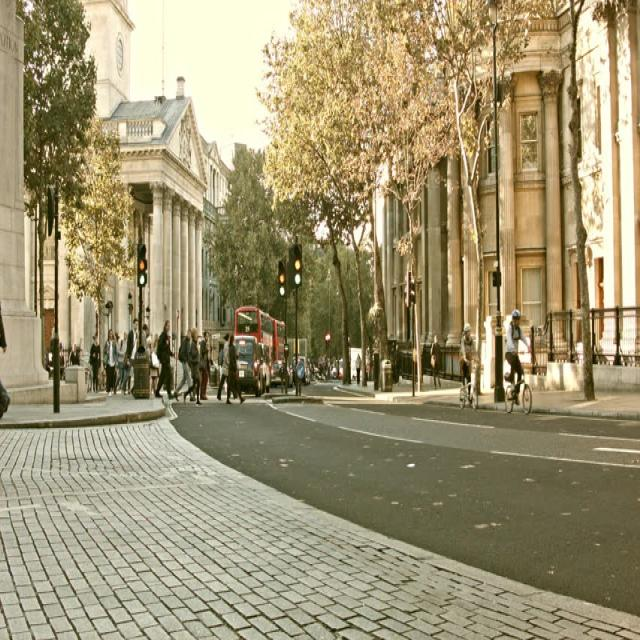body: (256, 334, 343, 389), (504, 306, 534, 406), (172, 327, 196, 402), (153, 316, 174, 399), (458, 320, 479, 403), (223, 332, 246, 404), (119, 316, 139, 397), (182, 326, 202, 406), (0, 299, 11, 420), (102, 328, 119, 397), (216, 330, 230, 402), (115, 329, 128, 395), (198, 331, 210, 401), (148, 331, 160, 398), (88, 334, 101, 394), (429, 333, 442, 391), (140, 320, 152, 377), (111, 330, 121, 390), (54, 336, 65, 379), (143, 333, 158, 358), (68, 341, 81, 368), (354, 352, 361, 384)
